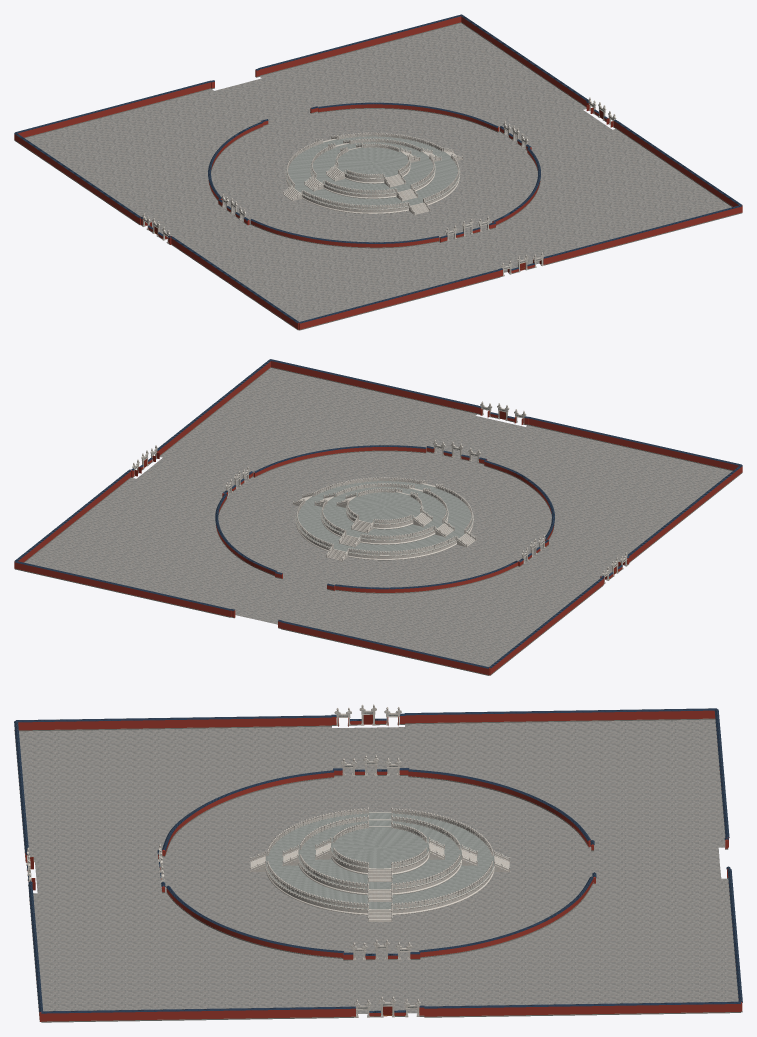
The model's file is detail.glb.
3 views of the same model, one above another, from view 1: azimuth 30°, elevation 25°; view 2: azimuth 150°, elevation 25°; view 3: azimuth 270°, elevation 25° (orthographic). The views are drawn at different scales.
Visible parts, largest first — view 1: Mound court.001, Mound red.001, Mound stone.001, Mound blueTile.001, Mound blueRoof.001, Mound paving0.001, Mound base.001, Mound paving1.001, Mound paving2.001, Mound paving4.001, Mound paving3.001, Mound relief.001; view 2: Mound court.001, Mound red.001, Mound stone.001, Mound blueTile.001, Mound blueRoof.001, Mound paving0.001, Mound base.001, Mound paving4.001, Mound paving2.001, Mound paving1.001, Mound paving3.001, Mound relief.001; view 3: Mound court.001, Mound red.001, Mound stone.001, Mound blueTile.001, Mound blueRoof.001, Mound paving0.001, Mound base.001, Mound paving1.001, Mound paving2.001, Mound paving4.001, Mound paving3.001, Mound relief.001.
Part boxes in pixels (x1=…): Mound court.001: x1=25, y1=23, x2=731, y2=321; Mound red.001: x1=14, y1=16, x2=742, y2=329; Mound stone.001: x1=142, y1=97, x2=616, y2=276; Mound blueTile.001: x1=14, y1=14, x2=741, y2=322; Mound blueRoof.001: x1=14, y1=15, x2=742, y2=323; Mound paving0.001: x1=286, y1=136, x2=459, y2=209; Mound base.001: x1=14, y1=22, x2=741, y2=330; Mound paving1.001: x1=288, y1=136, x2=457, y2=206; Mound paving2.001: x1=288, y1=136, x2=457, y2=208; Mound paving4.001: x1=288, y1=136, x2=457, y2=208; Mound paving3.001: x1=288, y1=136, x2=457, y2=208; Mound relief.001: x1=142, y1=101, x2=613, y2=268; Mound court.001: x1=24, y1=368, x2=732, y2=666; Mound red.001: x1=14, y1=361, x2=742, y2=675; Mound stone.001: x1=132, y1=401, x2=627, y2=583; Mound blueTile.001: x1=15, y1=359, x2=742, y2=668; Mound blueRoof.001: x1=15, y1=359, x2=742, y2=668; Mound paving0.001: x1=296, y1=481, x2=473, y2=555; Mound base.001: x1=15, y1=367, x2=742, y2=675; Mound paving4.001: x1=298, y1=481, x2=471, y2=554; Mound paving2.001: x1=298, y1=481, x2=471, y2=554; Mound paving1.001: x1=298, y1=481, x2=470, y2=553; Mound paving3.001: x1=298, y1=481, x2=470, y2=554; Mound relief.001: x1=133, y1=404, x2=627, y2=575; Mound court.001: x1=19, y1=719, x2=738, y2=1013; Mound red.001: x1=17, y1=710, x2=742, y2=1021; Mound stone.001: x1=26, y1=704, x2=510, y2=1017; Mound blueTile.001: x1=14, y1=708, x2=742, y2=1012; Mound blueRoof.001: x1=14, y1=708, x2=742, y2=1013; Mound paving0.001: x1=265, y1=812, x2=494, y2=909; Mound base.001: x1=14, y1=718, x2=742, y2=1022; Mound paving1.001: x1=267, y1=813, x2=492, y2=908; Mound paving2.001: x1=267, y1=813, x2=492, y2=908; Mound paving4.001: x1=267, y1=813, x2=492, y2=908; Mound paving3.001: x1=267, y1=813, x2=492, y2=908; Mound relief.001: x1=27, y1=709, x2=492, y2=1008.
Size of the model in its own units: 1.73 by 0.0659 by 1.75.
16 materials, 2 textured.
